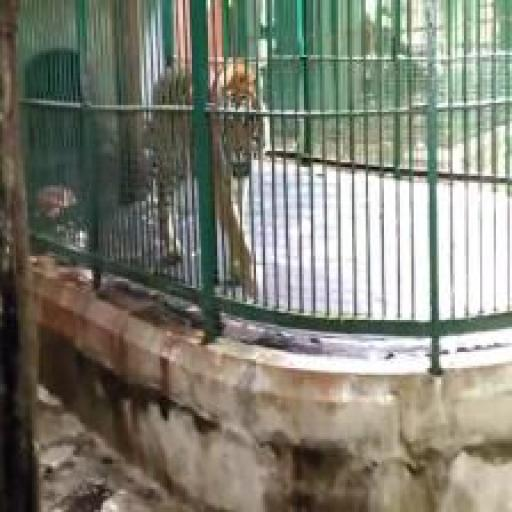Tiger: (146, 62, 265, 292)
